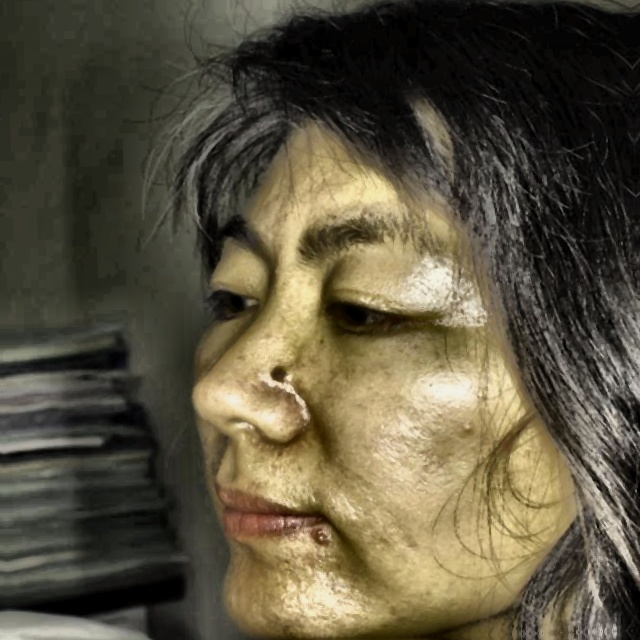comedone: (302, 528, 346, 560)
